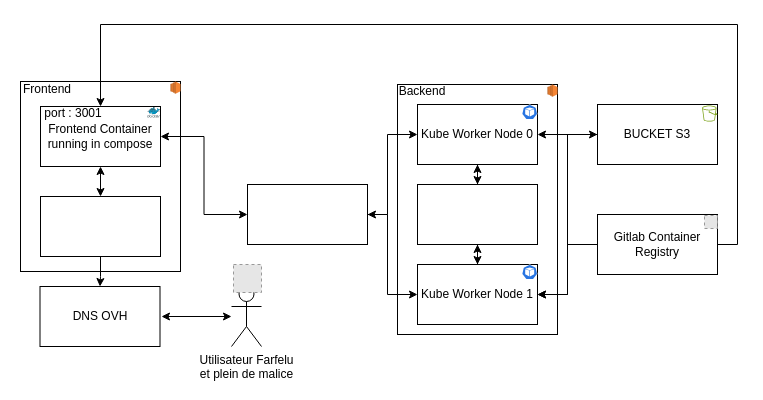
Some shapes in this 763 by 400 pixel diagram are drawn without their labels. Grey dashed boxes stand in for pictures. The centre of each missing label's shape, as x and y in pixels:
"AWS Network Load Balancer" belongs at point 307,214.
"Control Plane Kubeadm" belongs at point 477,214.
"Nginx Reverse Proxy" belongs at point 100,226.
